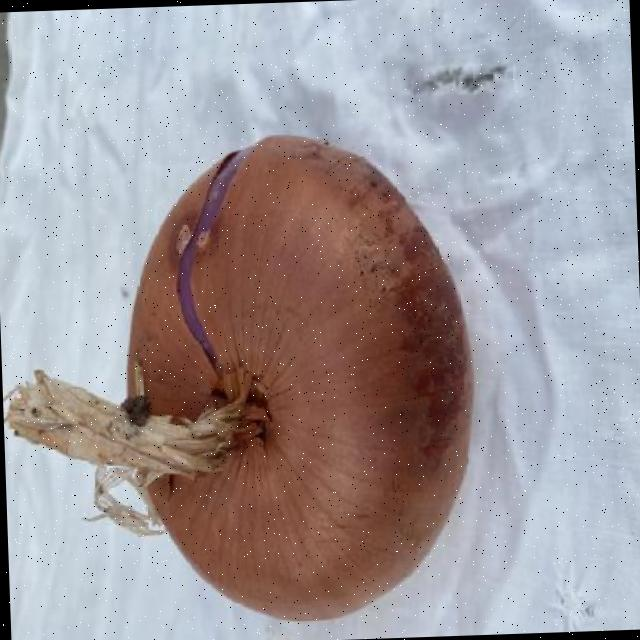Onion: (5, 134, 470, 620)
